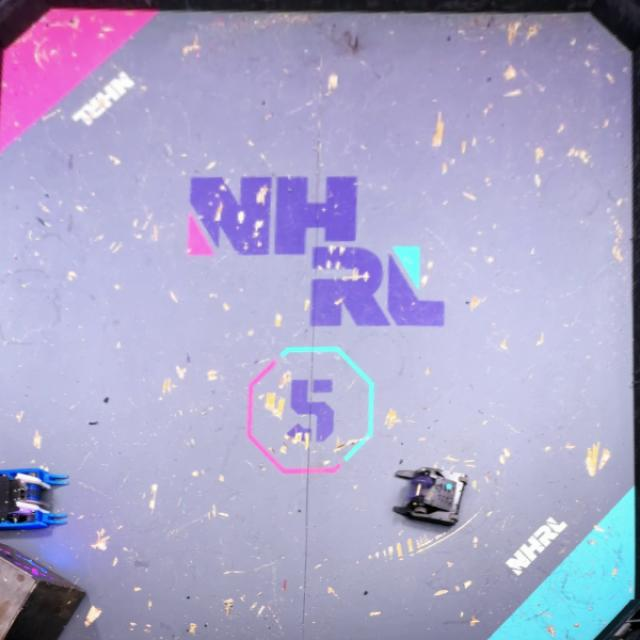housebot: (1, 542, 90, 640)
robot: (392, 464, 470, 530), (1, 465, 70, 536)
